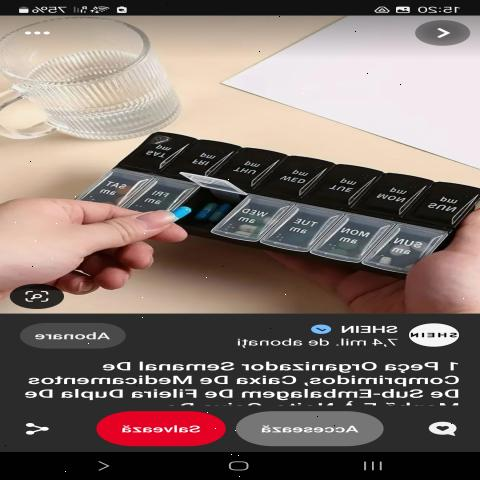PillBox: (70, 123, 469, 280)
